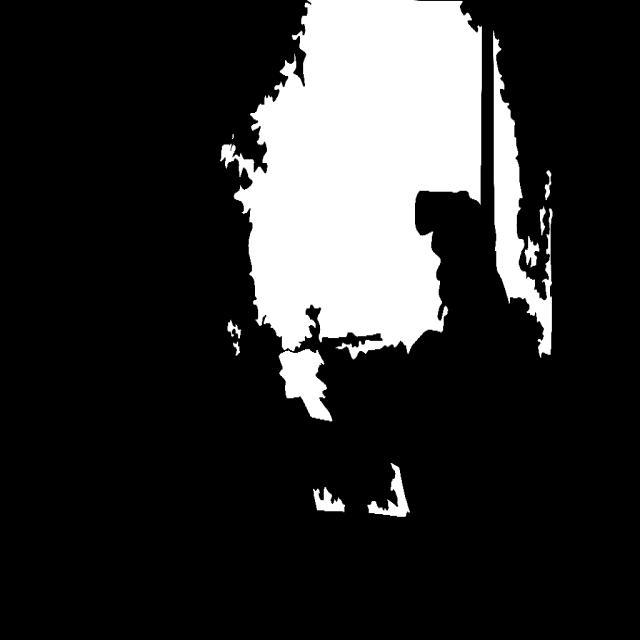fire: (172, 6, 596, 519)
